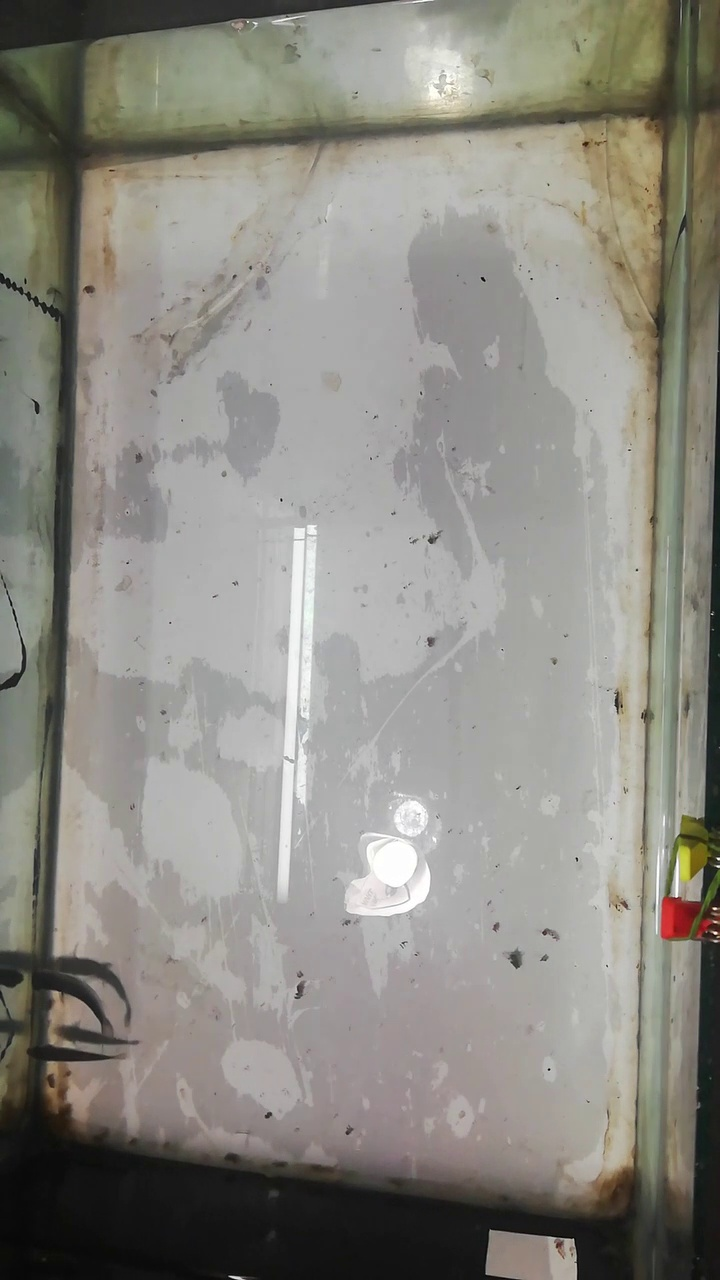fish1: (29, 970, 114, 1031)
fish2: (24, 1044, 125, 1066)
